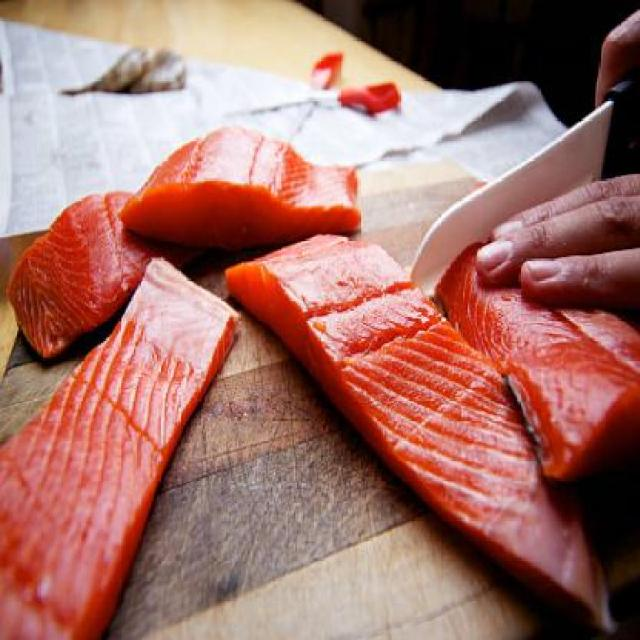salmon: (217, 210, 639, 616), (1, 241, 250, 640), (440, 199, 640, 493), (6, 175, 280, 362), (111, 112, 384, 266)
